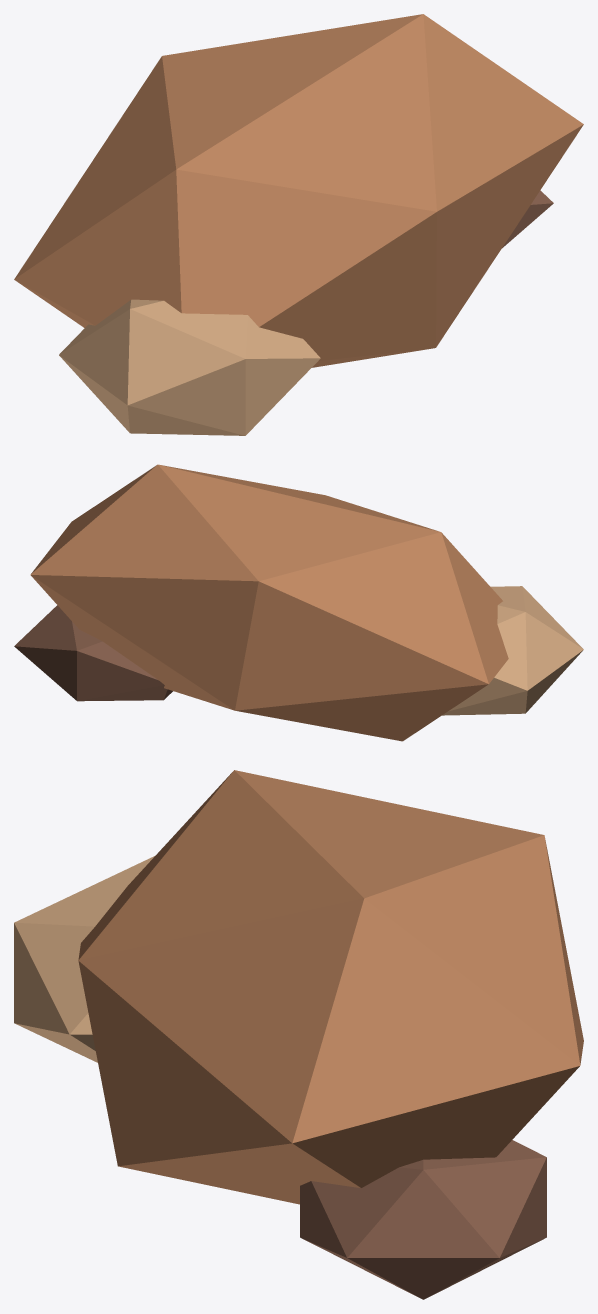
The model's file is dune-rock.glb.
3 views of the same model, one above another, from view 1: azimuth 30°, elevation 25°; view 2: azimuth 150°, elevation 25°; view 3: azimuth 270°, elevation 25° (orthographic). The views are drawn at different scales.
Parts seen in each view (by area): view 1: Vesper / dune-rock; view 2: Vesper / dune-rock; view 3: Vesper / dune-rock.
Part boxes in pixels (x1=…): Vesper / dune-rock: x1=14, y1=14, x2=583, y2=435; Vesper / dune-rock: x1=14, y1=464, x2=583, y2=741; Vesper / dune-rock: x1=14, y1=770, x2=583, y2=1299.
Size of the model in its own units: 3.1 by 1.59 by 2.16.
